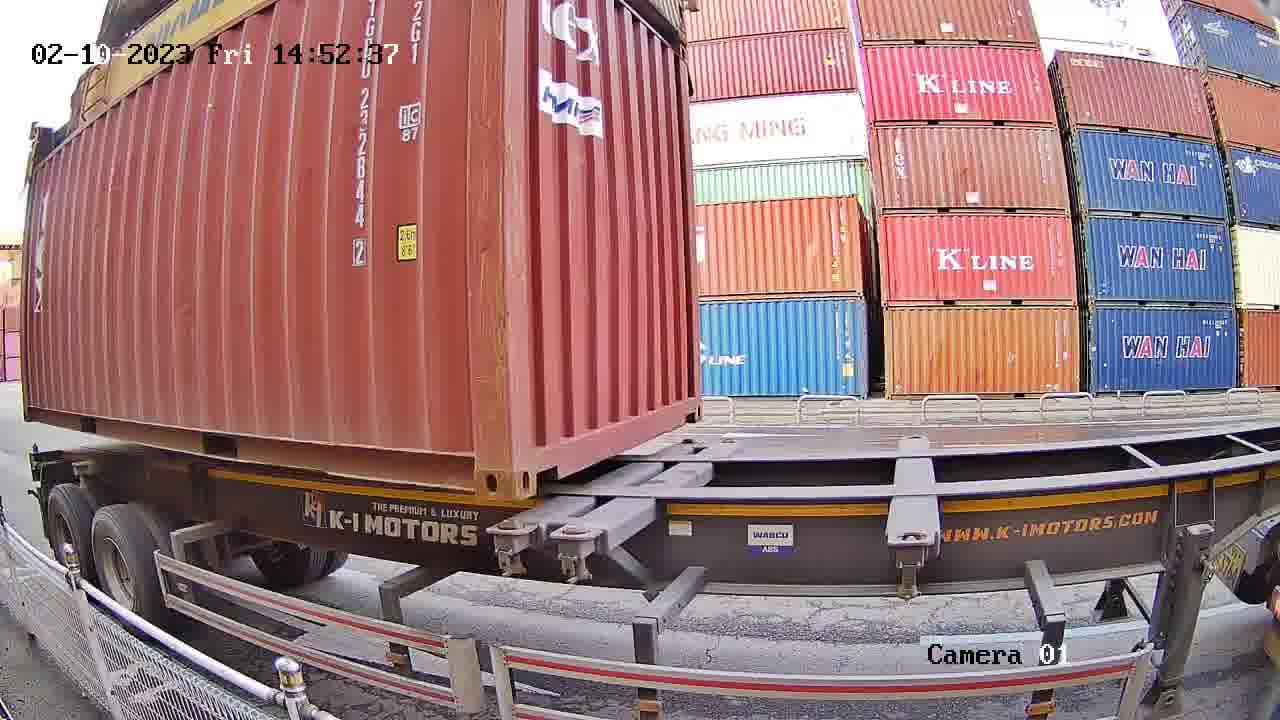Chassis: (549, 442, 741, 553), (487, 441, 705, 533)
Cone: (559, 525, 604, 584), (494, 520, 536, 578)
Hole_L: (513, 427, 561, 503)
Hole_R: (440, 440, 513, 503), (676, 378, 703, 426)
Tire: (93, 508, 148, 627), (46, 488, 87, 584)
